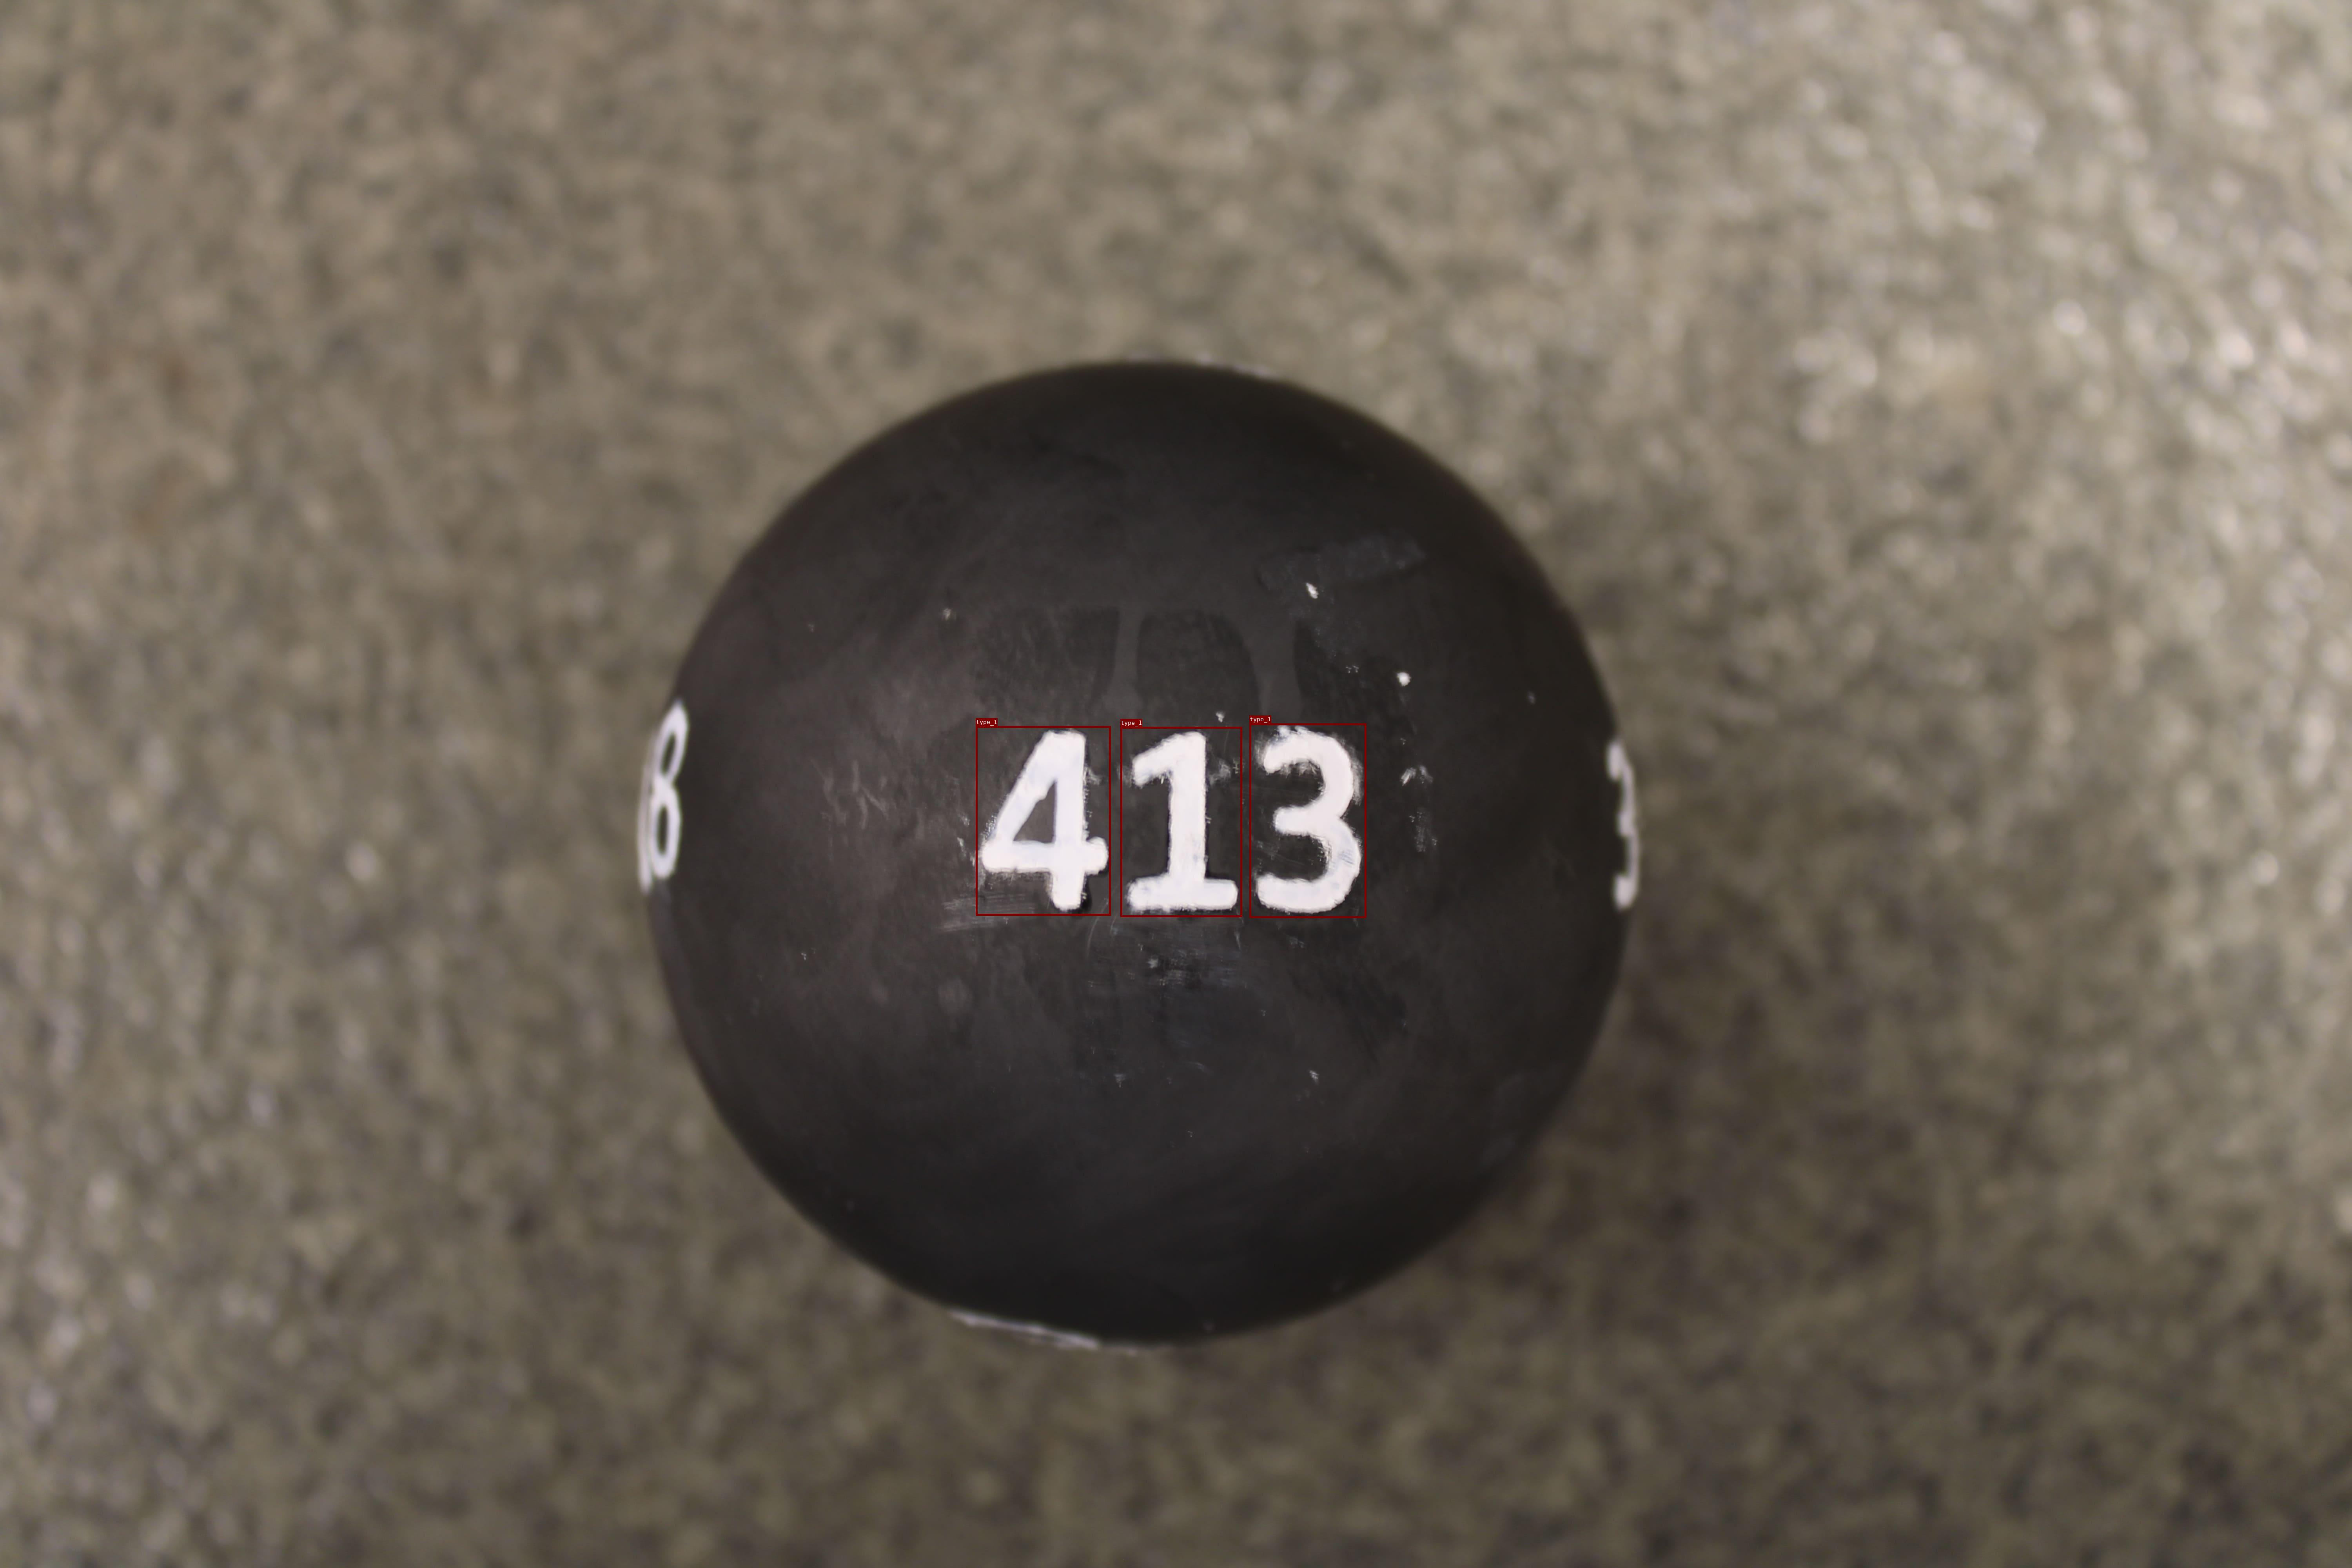type_1: (976, 726, 1111, 915), (1120, 726, 1243, 917), (1249, 723, 1367, 917)
